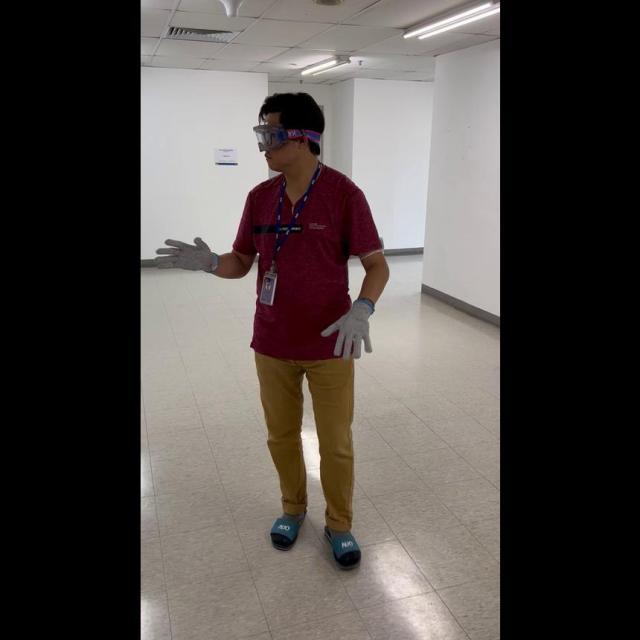gloved_hand: (320, 295, 375, 359), (153, 231, 218, 276)
